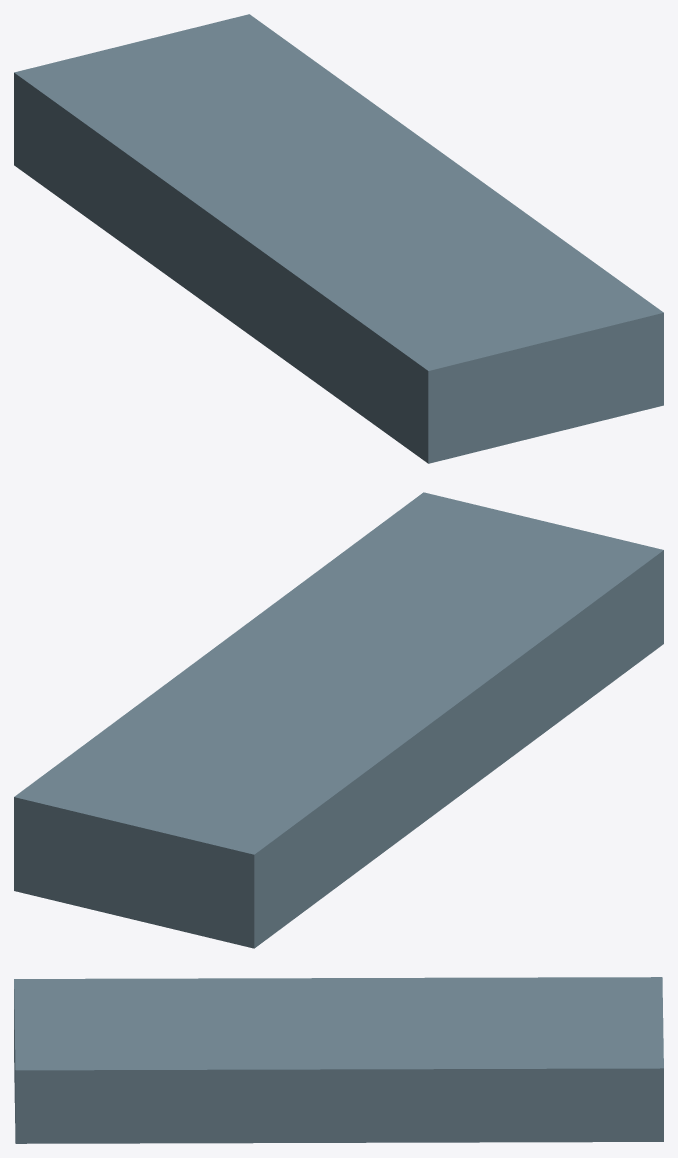
File: group915592506_lev2.glb
3 renders of one model, top to bottom at view 1: azimuth 30°, elevation 25°; view 2: azimuth 150°, elevation 25°; view 3: azimuth 270°, elevation 25°, orthographic. The views are drawn at different scales.
Parts seen in each view (by area): view 1: group915592506_lev2; view 2: group915592506_lev2; view 3: group915592506_lev2.
Boxes of the visible parts, x1=… form: group915592506_lev2: x1=14, y1=14, x2=663, y2=463; group915592506_lev2: x1=14, y1=492, x2=663, y2=948; group915592506_lev2: x1=14, y1=977, x2=663, y2=1143.
Bounding box in the file's own units: 0.49 × 0.18 × 1.44.
